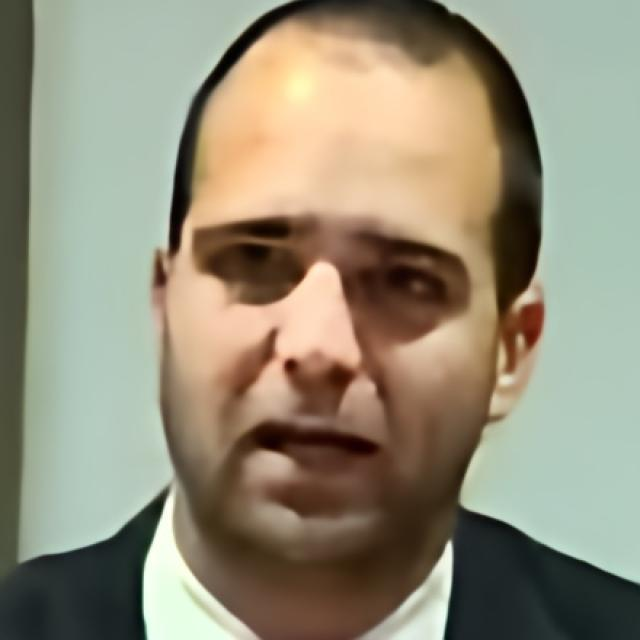disgust: (166, 67, 497, 563)
